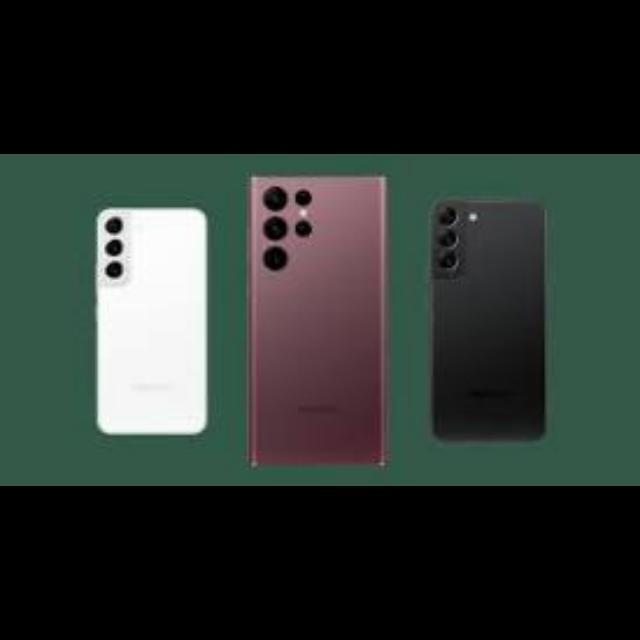PhoneUse: (247, 172, 391, 472), (428, 198, 550, 447), (94, 207, 208, 437)
